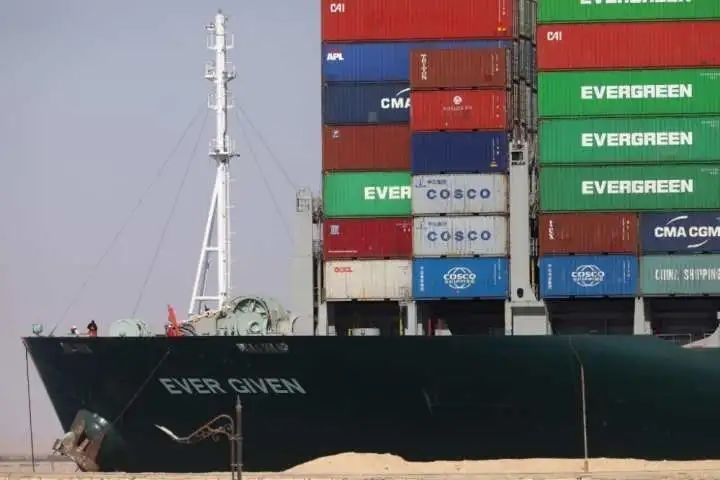Cargoship: (7, 1, 720, 472)
